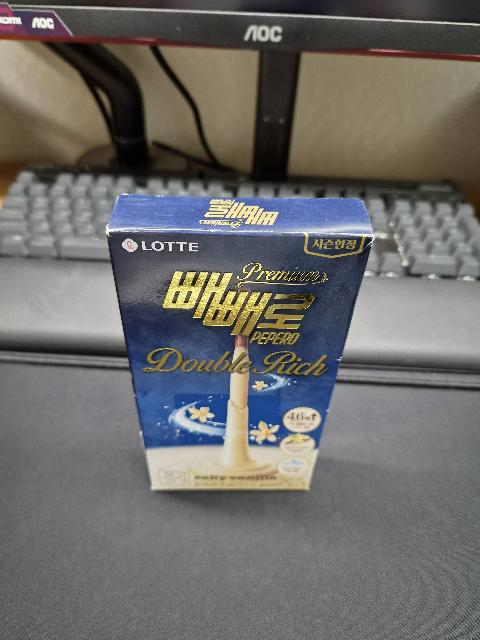pepero: (106, 193, 374, 491)
